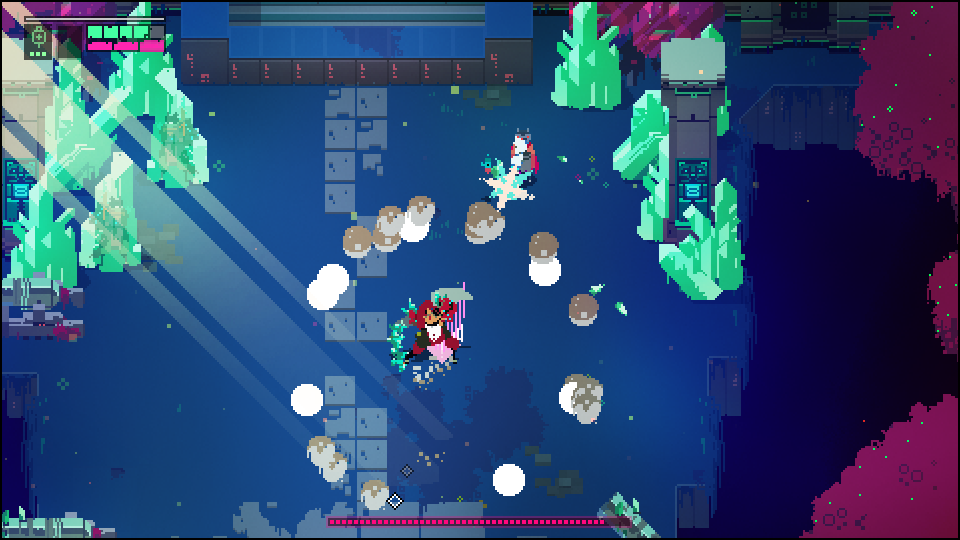hanged_man: (385, 289, 474, 371)
player: (508, 128, 540, 194)
